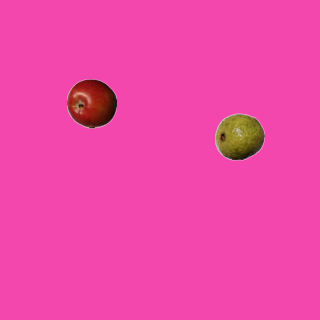Apple Braeburn: (66, 78, 116, 128)
Guava: (214, 111, 264, 161)
